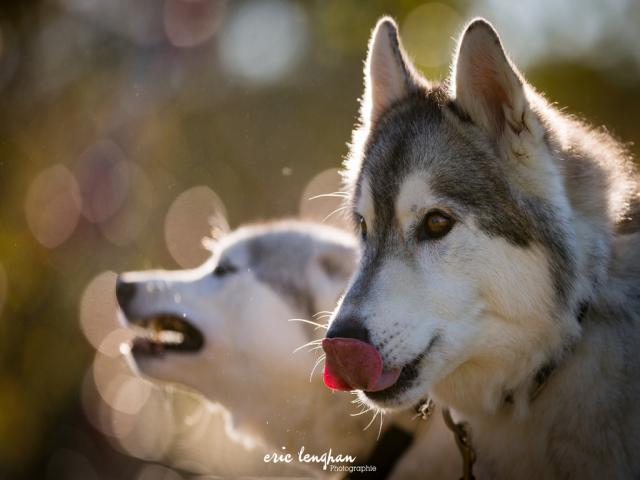Dog: (288, 19, 640, 480), (113, 222, 480, 480)
